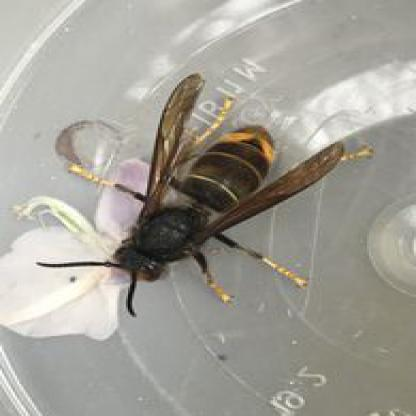Asian Hornet: (35, 72, 352, 321)
